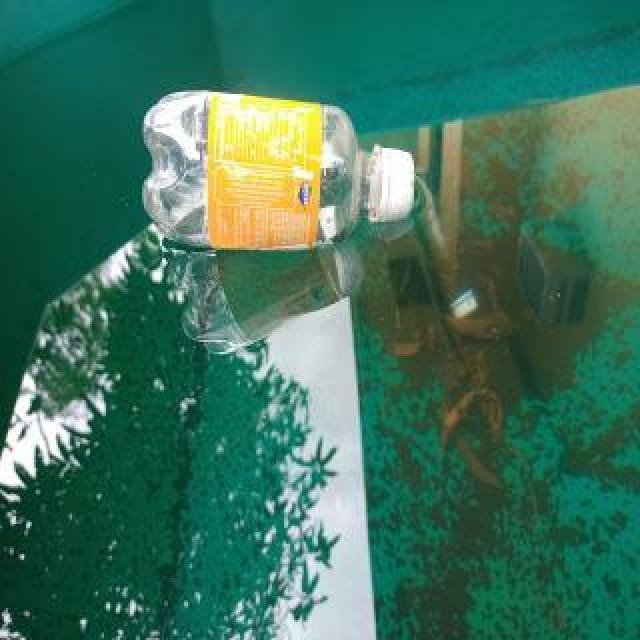bottle: (140, 83, 418, 257)
